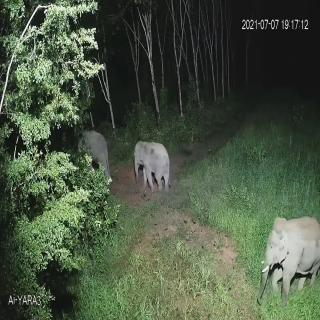Elephant: (256, 209, 320, 295), (132, 128, 180, 195), (77, 122, 114, 186)
